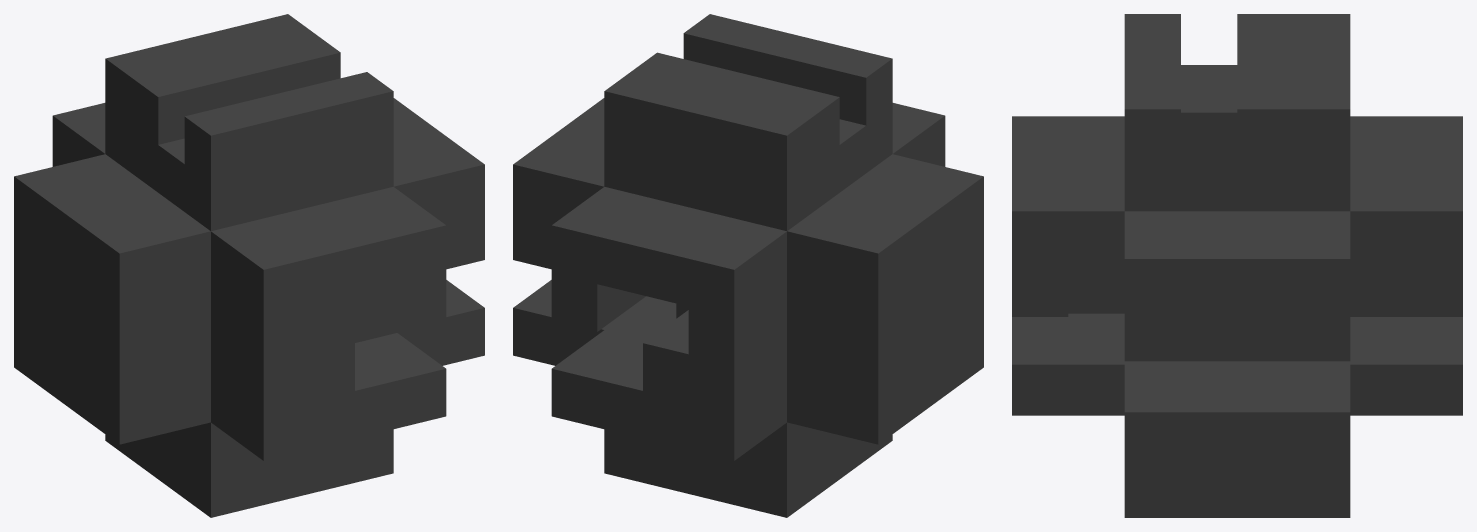
The model's file is mao-1.obj.
The picture shows the model from 3 angles, left to right: view 1: azimuth 30°, elevation 25°; view 2: azimuth 150°, elevation 25°; view 3: azimuth 270°, elevation 25°; orthographic projection. The views are drawn at different scales.
Size of the model in its own units: 1.6 by 1.6 by 1.6.
1 material, 1 textured.
